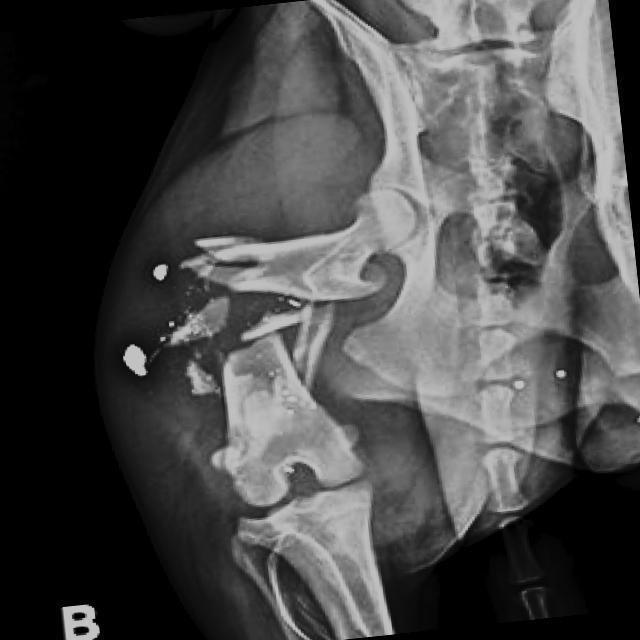Comminuted Fracture: (156, 243, 306, 397)
